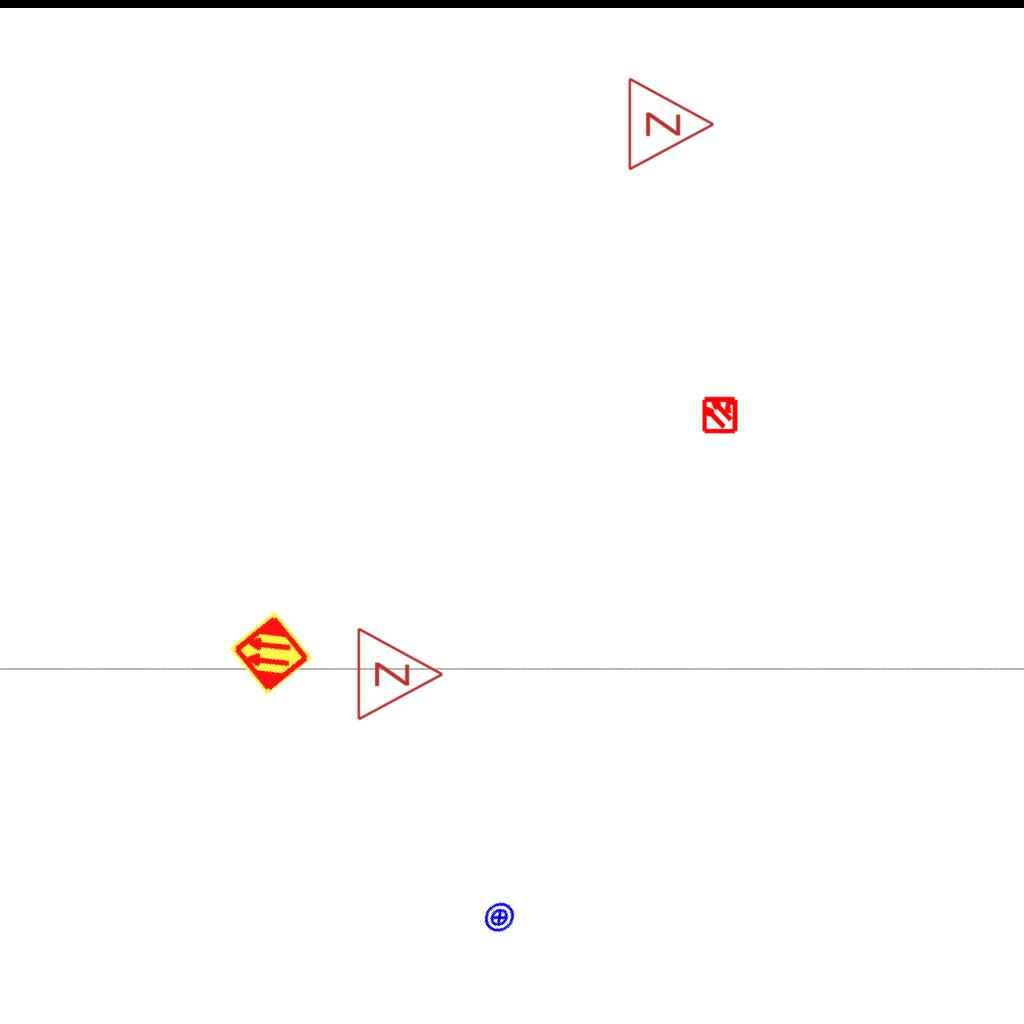ASR_Ansaugrauchmelder: (227, 609, 315, 697)
OT_Multisensormelder_(Kombination_RMO_WMD): (692, 386, 748, 442)
Taster_beleuchtet: (476, 894, 523, 941)
Zimmersignalleuchte: (621, 74, 721, 172), (350, 624, 450, 722)
